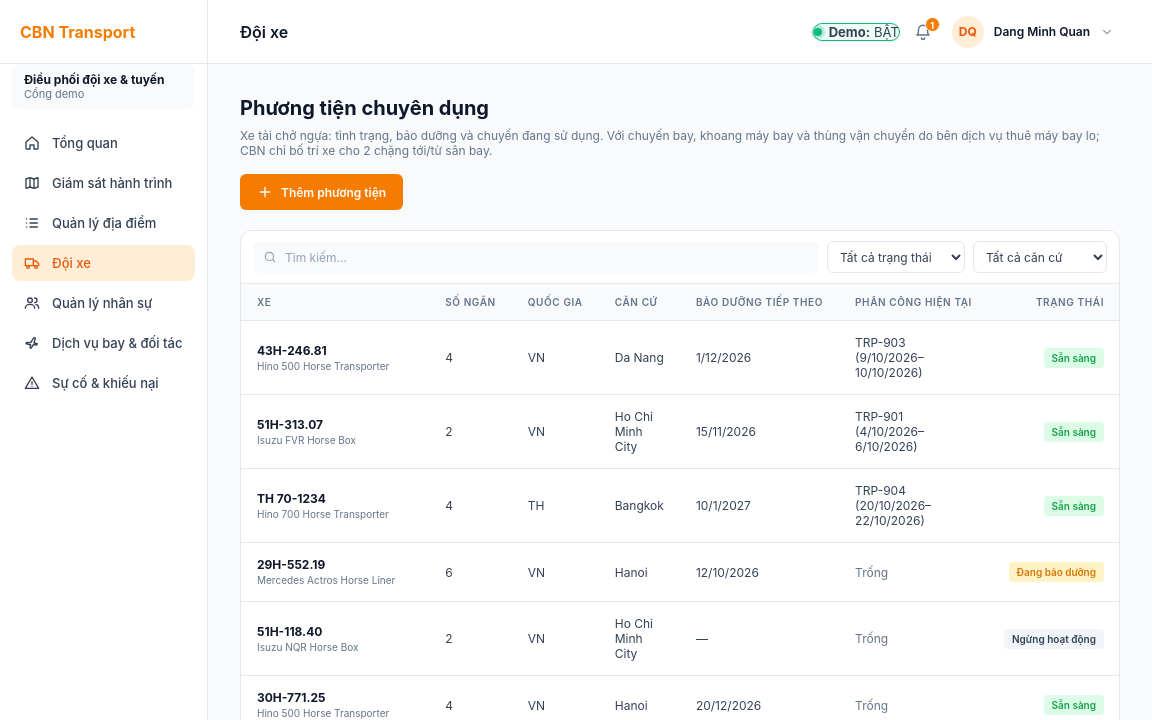
Scenario: Coordinator routes after replacing the old portal › opens vehicle details from the fleet list
Step 1. Click the text "43H-246.81" → [292, 350], box [257, 342, 327, 358]
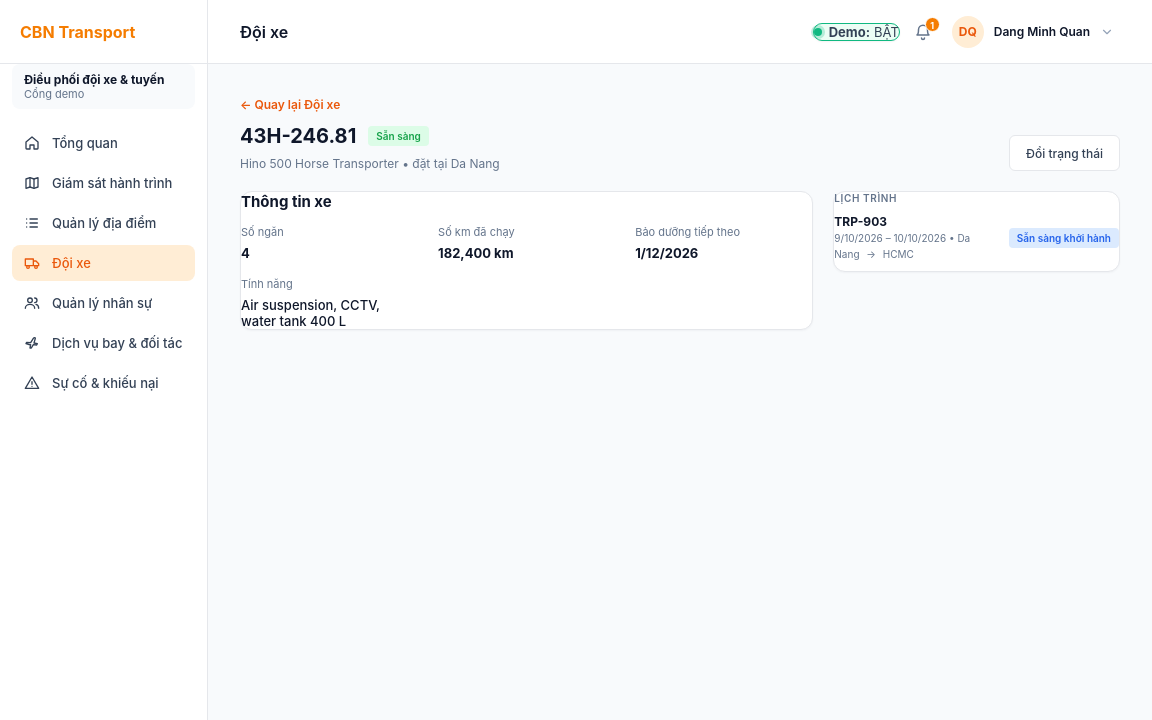
Result: the heading "43H-246.81 Sẵn sàng" is shown at [240, 124, 429, 148]
